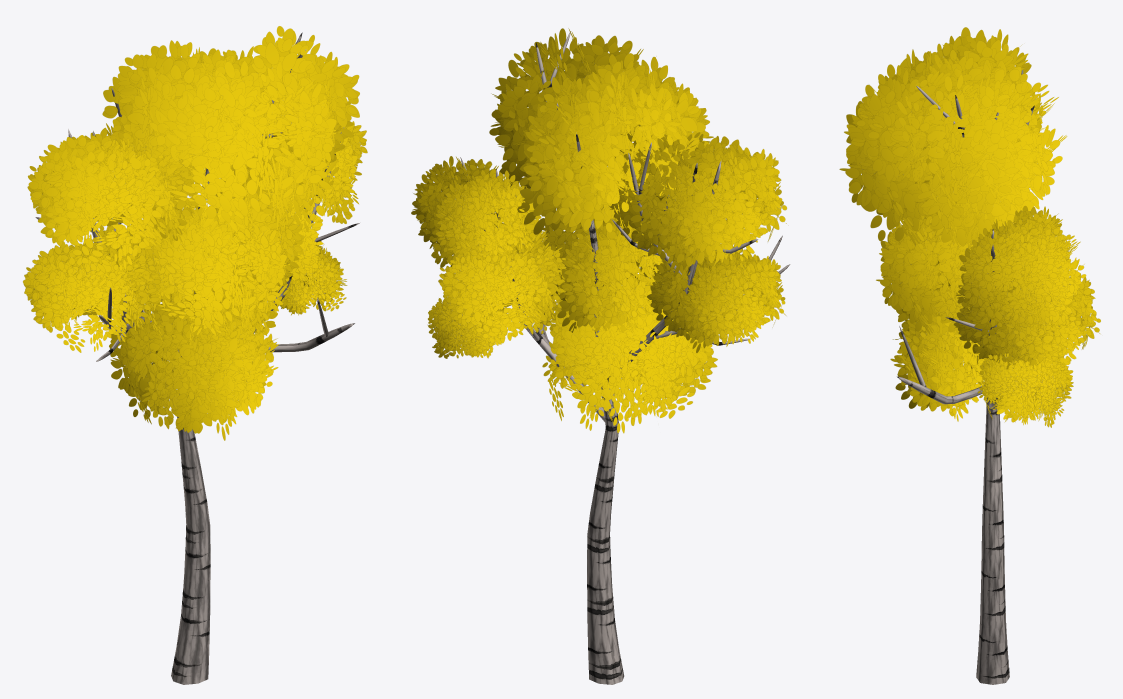
The model's file is BirchTree_3.gltf.
The picture shows the model from 3 angles, left to right: view 1: azimuth 30°, elevation 25°; view 2: azimuth 150°, elevation 25°; view 3: azimuth 270°, elevation 25°; orthographic projection. The views are drawn at different scales.
Visible parts, largest first — view 1: BirchTree_3; view 2: BirchTree_3; view 3: BirchTree_3.
Boxes of the visible parts, <box> form: BirchTree_3: <box>23,26,367,684</box>; BirchTree_3: <box>411,28,790,684</box>; BirchTree_3: <box>839,27,1100,684</box>.
Size of the model in its own units: 3.43 by 5.75 by 2.27.
Materials: 2 (2 with a texture image).
